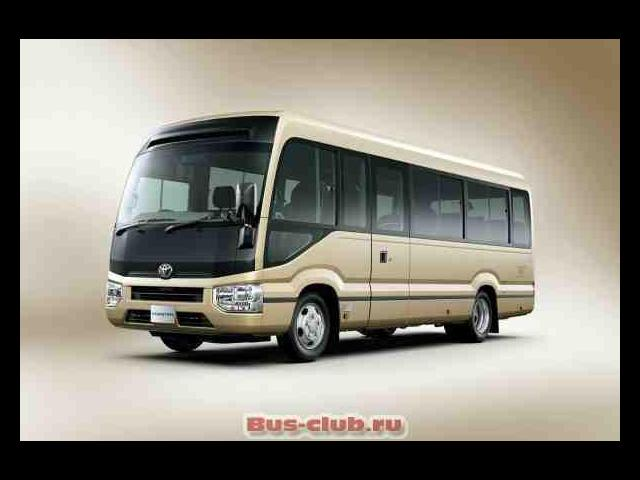bus: (101, 106, 544, 358)
